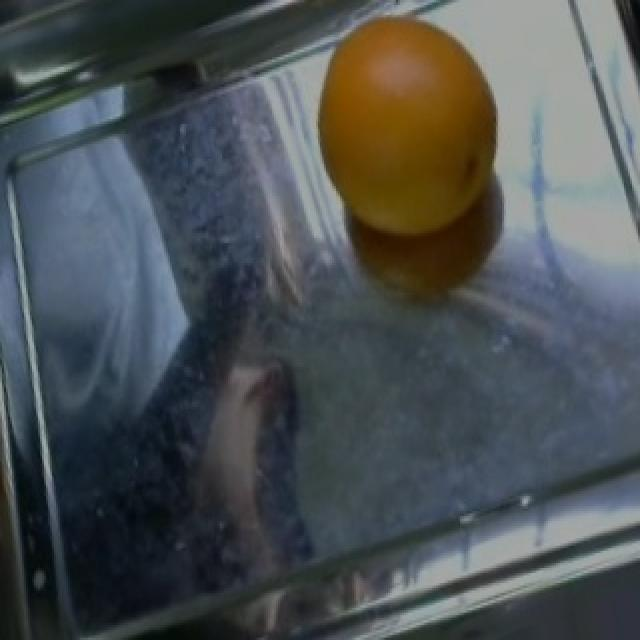Fruit: (290, 10, 524, 260)
